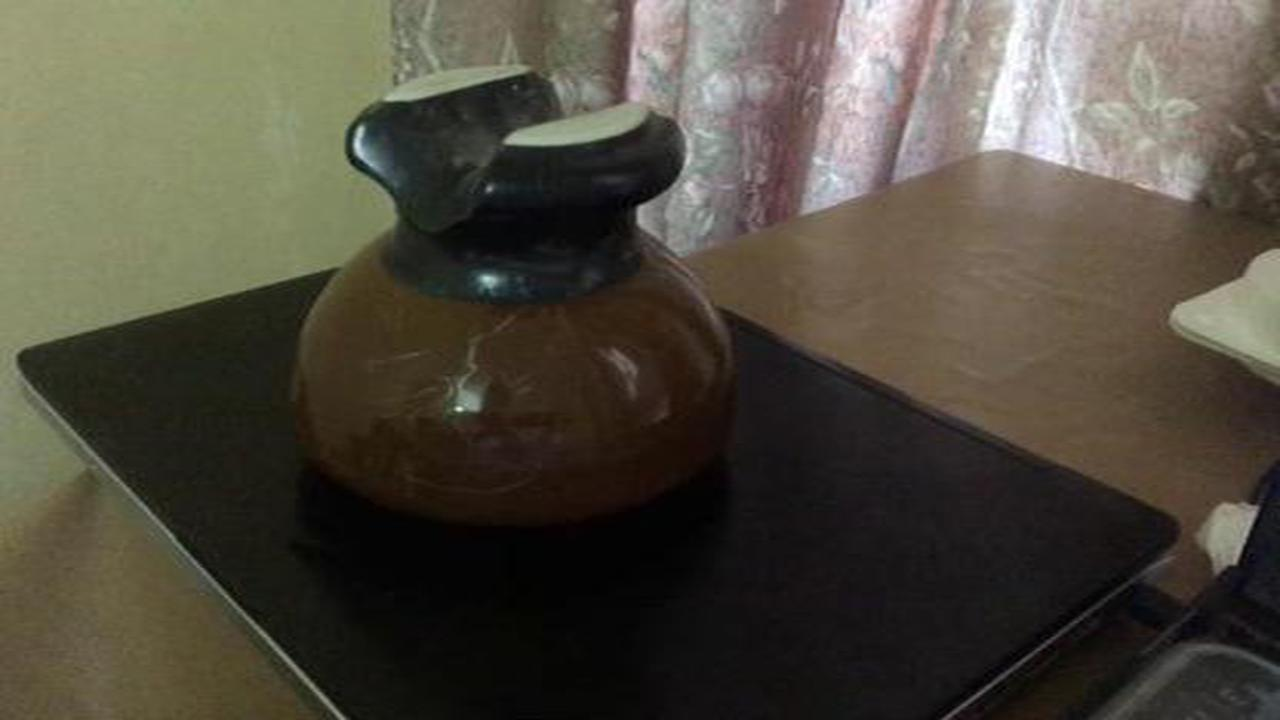insulator_pin: (265, 55, 776, 542)
